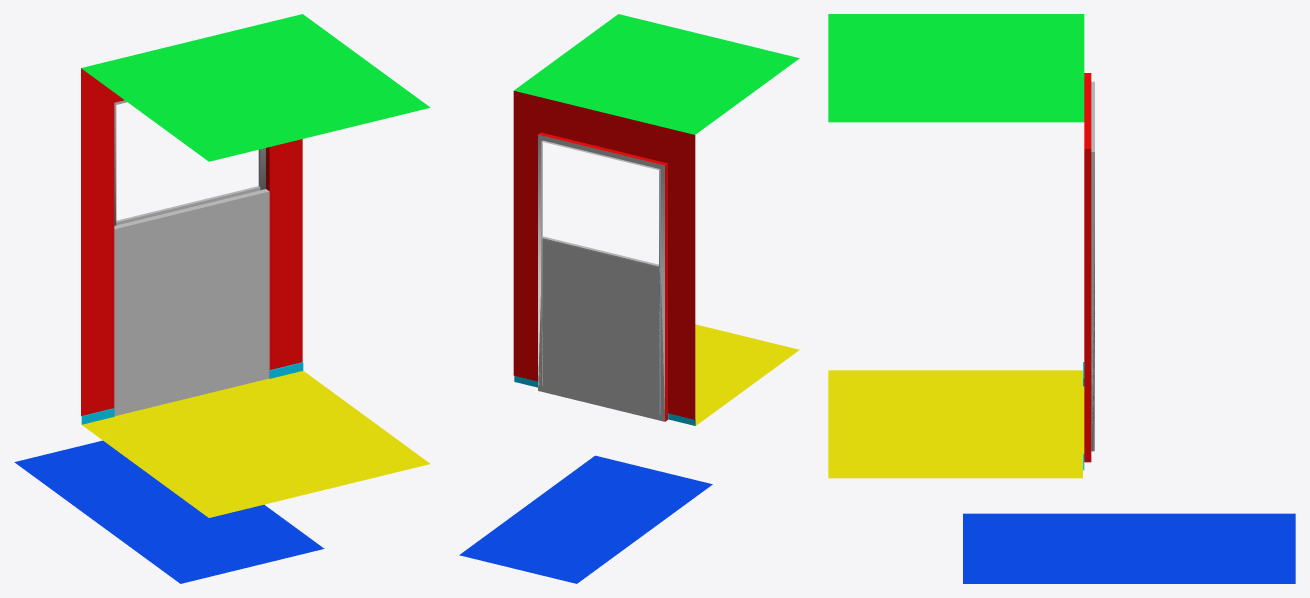
The picture shows the model from 3 angles, left to right: view 1: azimuth 30°, elevation 25°; view 2: azimuth 150°, elevation 25°; view 3: azimuth 270°, elevation 25°; orthographic projection. The views are drawn at different scales.
Visible parts, largest first — view 1: SM_Window_C, SM_Glass_C; view 2: SM_Window_C, SM_Glass_C; view 3: SM_Window_C, SM_Glass_C.
Boxes of the visible parts, x1,y1,x2,y2 form: SM_Window_C: [81, 14, 430, 517]; SM_Glass_C: [14, 440, 324, 583]; SM_Window_C: [513, 14, 799, 425]; SM_Glass_C: [459, 455, 712, 583]; SM_Window_C: [828, 14, 1094, 478]; SM_Glass_C: [963, 513, 1295, 583].
Size of the model in its own units: 200 by 414 by 365.
